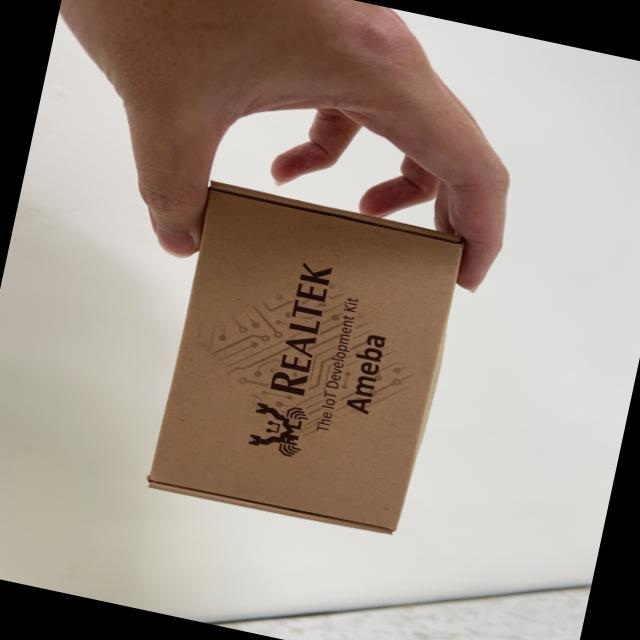box: (130, 171, 478, 564)
